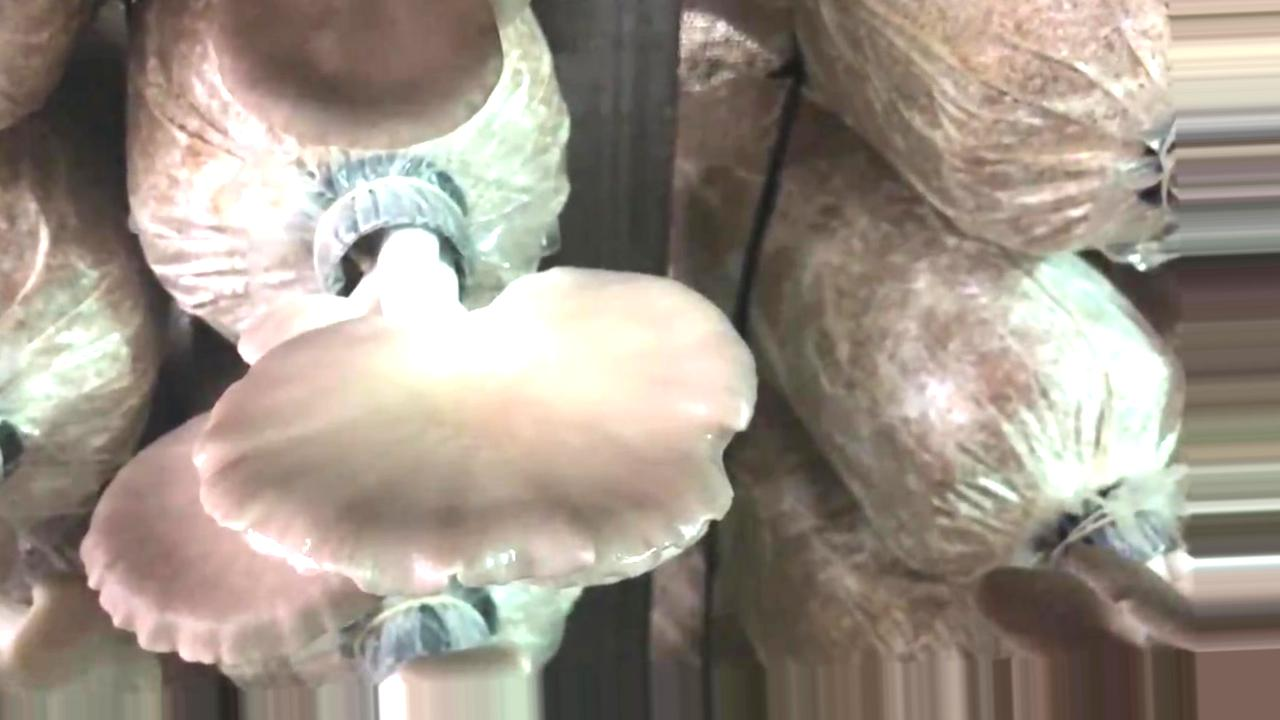nam: (189, 167, 756, 596), (80, 407, 385, 668), (205, 7, 505, 152), (967, 471, 1193, 662)
